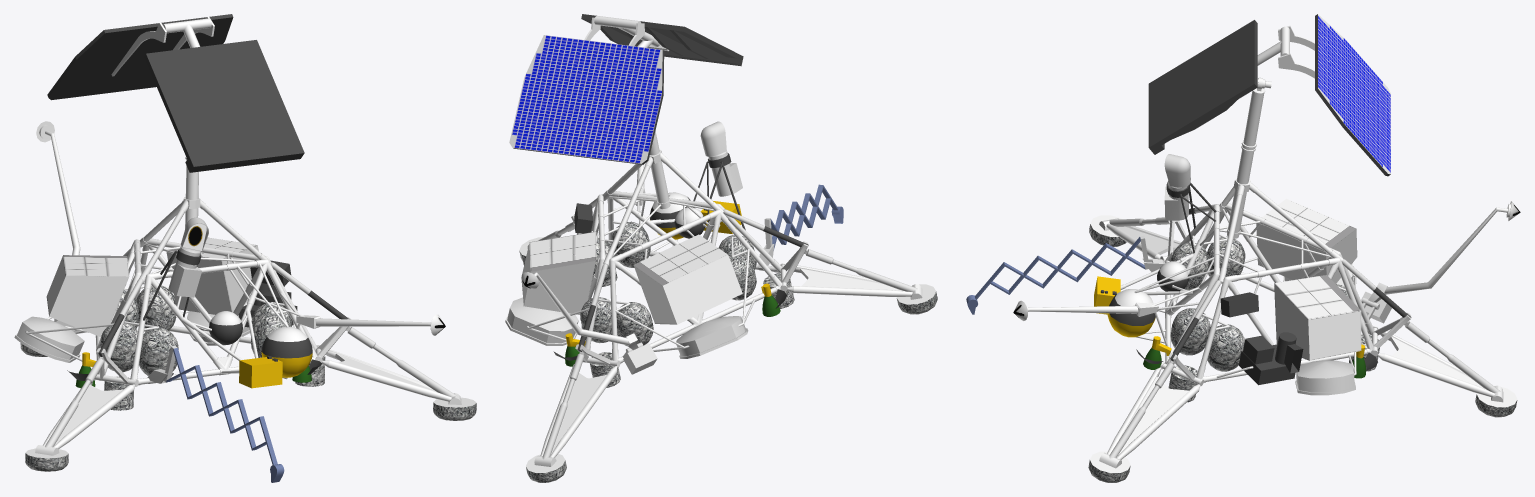
Rendered from surveyor-nassp.glb.
3 views of the same model, side by side, from view 1: azimuth 30°, elevation 25°; view 2: azimuth 150°, elevation 25°; view 3: azimuth 270°, elevation 25° (orthographic). The views are drawn at different scales.
Parts seen in each view (by area): view 1: PlaneAnt, Shades, SolarPanelBase, Frame, Legs, Tanks, Details, LegStrutsLight, Radar, OmniAnt, Scoop, Joints (+12 smaller); view 2: SolarPanel, Shades, Legs, Frame, Tanks, Radar, LegStrutsLight, PlaneAnt, Details, Scoop, Joints, Camera (+13 smaller); view 3: Shades, PlaneAnt, Legs, SolarPanel, Frame, Tanks, LegStrutsLight, Inst, Details, OmniAnt, Radar, Scoop (+11 smaller).
Boxes of the visible parts, x1,y1,x2,y2 form: PlaneAnt: [144, 40, 304, 172]; Shades: [46, 237, 258, 336]; SolarPanelBase: [47, 14, 233, 100]; Frame: [95, 202, 311, 384]; Legs: [25, 330, 476, 458]; Tanks: [100, 285, 291, 375]; Details: [25, 243, 304, 379]; LegStrutsLight: [45, 249, 457, 447]; Radar: [14, 301, 250, 362]; OmniAnt: [36, 121, 432, 329]; Scoop: [166, 348, 284, 482]; Joints: [96, 197, 317, 385]; SolarPanel: [509, 35, 662, 163]; Shades: [521, 231, 742, 324]; Legs: [519, 237, 935, 472]; Frame: [581, 159, 776, 361]; Tanks: [580, 221, 756, 346]; Radar: [505, 297, 748, 358]; LegStrutsLight: [538, 194, 917, 459]; PlaneAnt: [581, 14, 743, 66]; Details: [526, 192, 755, 351]; Scoop: [770, 184, 843, 250]; Joints: [584, 149, 782, 363]; Camera: [700, 121, 742, 196]; Shades: [1256, 198, 1361, 360]; PlaneAnt: [1148, 20, 1257, 154]; Legs: [1090, 215, 1517, 472]; SolarPanel: [1318, 14, 1390, 174]; Frame: [1165, 187, 1369, 381]; Tanks: [1170, 236, 1348, 371]; LegStrutsLight: [1109, 204, 1500, 458]; Inst: [1220, 292, 1303, 385]; Details: [1120, 209, 1356, 378]; OmniAnt: [1027, 201, 1511, 316]; Radar: [1283, 263, 1355, 395]; Scoop: [966, 237, 1145, 314].
Size of the model in its own units: 3.49 by 3.06 by 3.94.
9 materials, 2 textured.
